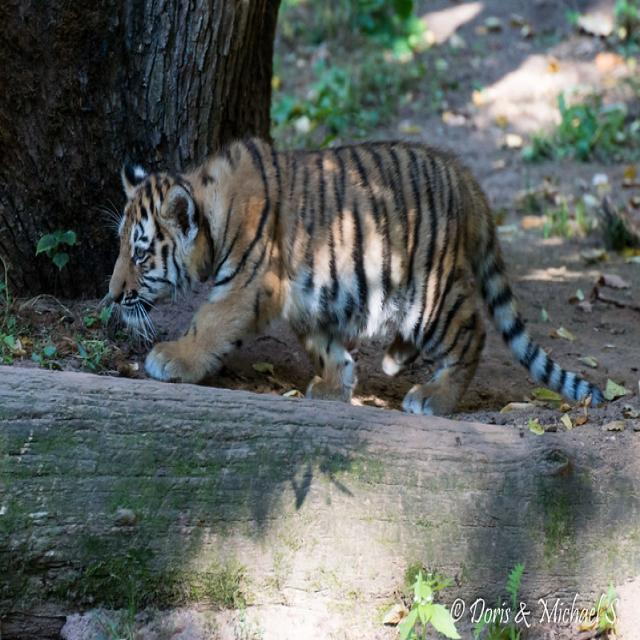Tiger: (109, 135, 566, 413)
